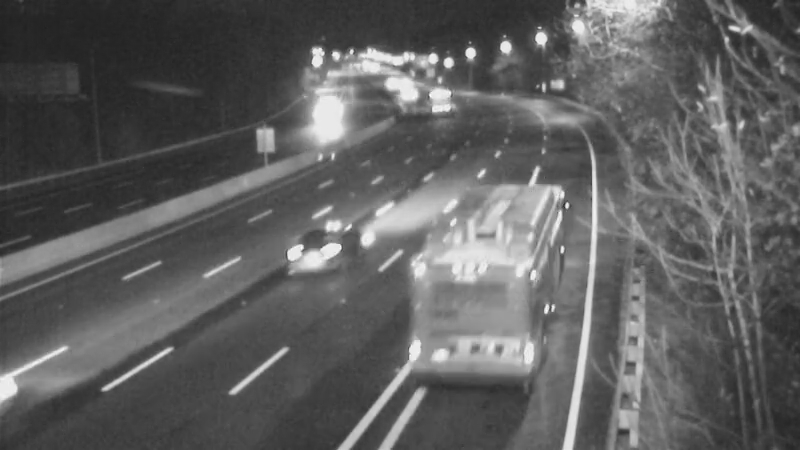vehicle: (442, 229, 522, 309), (266, 211, 346, 291), (382, 67, 432, 117), (413, 68, 463, 118), (305, 88, 355, 138)
